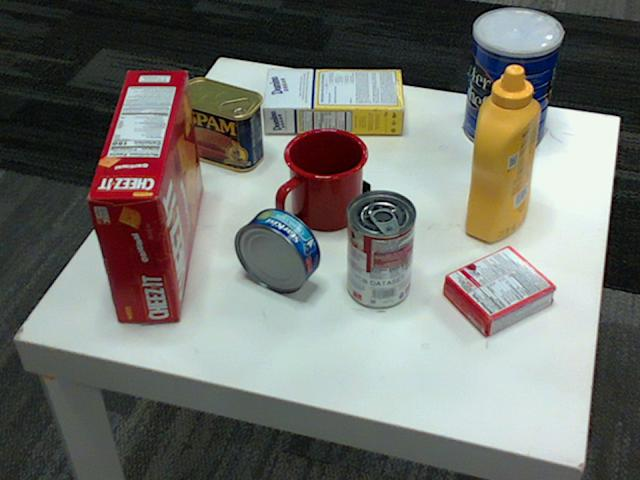cracker_box: (87, 68, 204, 320)
gelatin_box: (442, 246, 556, 336)
large_marker: (296, 141, 369, 196)
master_chef_can: (462, 8, 561, 151)
mug: (279, 125, 369, 228)
mustard_bottle: (464, 66, 540, 241)
potted_meat_can: (173, 79, 264, 171)
sugar_box: (263, 68, 404, 133)
tomato_soup_can: (347, 190, 416, 308)
tuna_fish_can: (236, 208, 321, 293)
